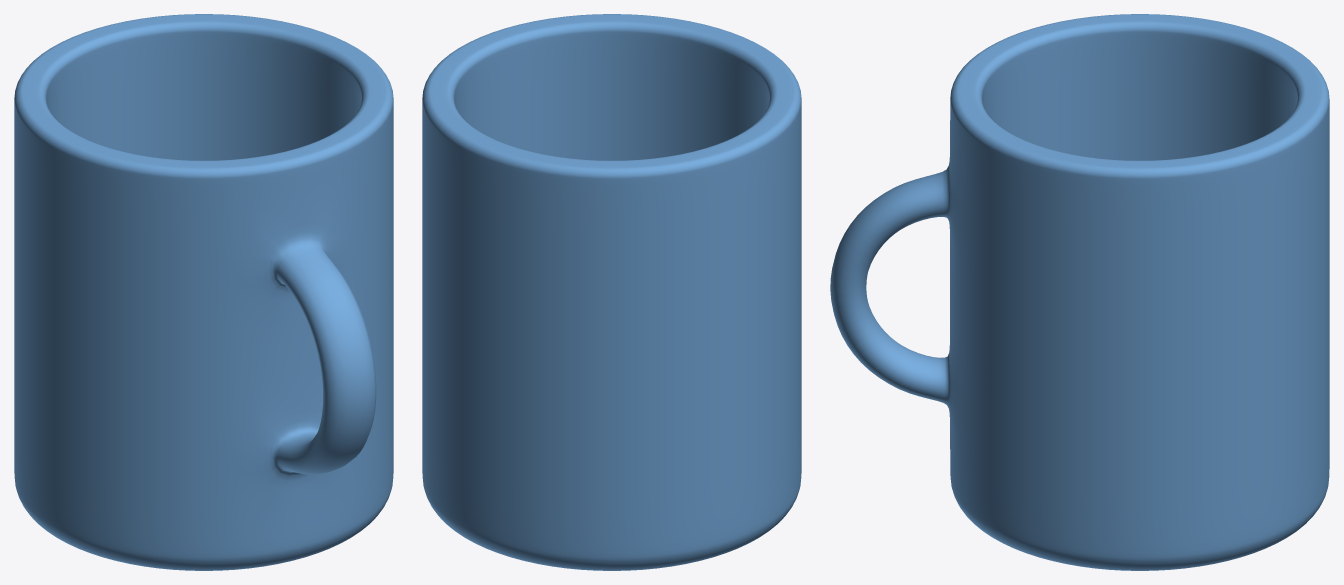
Rendered from bardak.FBX.
3 views of the same model, side by side, from view 1: azimuth 30°, elevation 25°; view 2: azimuth 150°, elevation 25°; view 3: azimuth 270°, elevation 25° (orthographic).
Visible parts, largest first — view 1: Line01; view 2: Line01; view 3: Line01.
Part boxes in pixels (<box>): Line01: <box>14,14,393,570</box>; Line01: <box>422,14,801,570</box>; Line01: <box>830,14,1329,570</box>.
Bounding box in the file's own units: 118 × 140 × 155.
